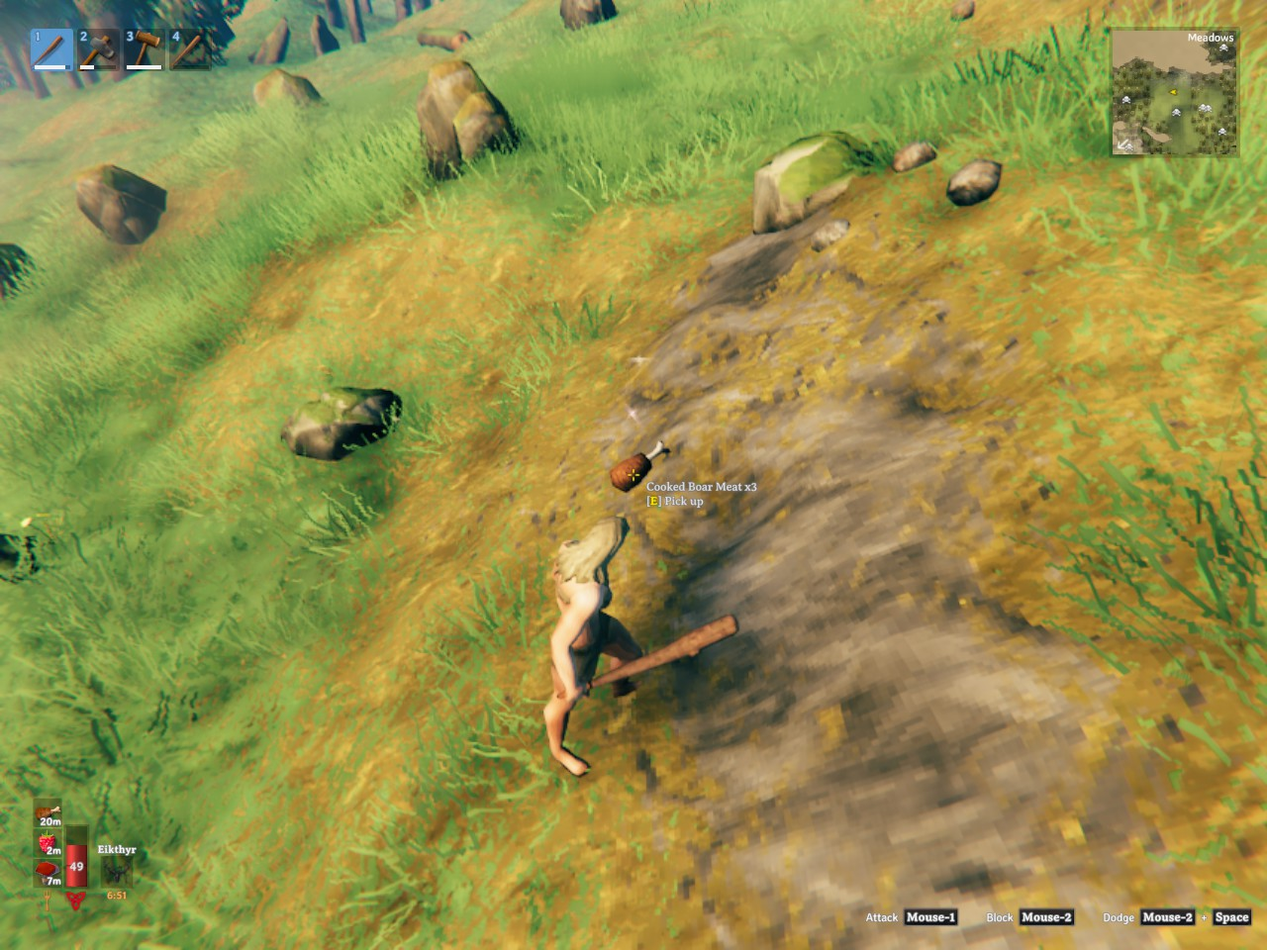Club: (590, 616, 737, 689)
Cooked Boar Meat: (610, 440, 670, 492)
Food Indicator: (36, 797, 63, 891)
Health Bar: (63, 823, 90, 891)
Hotbar: (25, 21, 398, 78)
